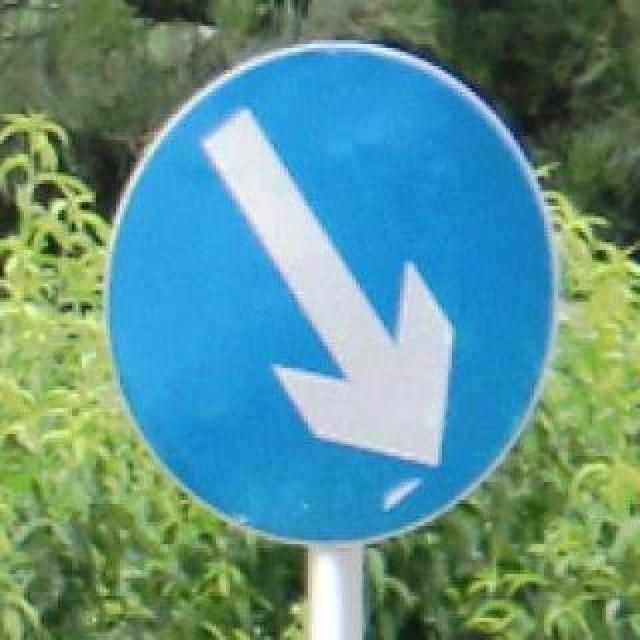keep right: (96, 32, 554, 544)
